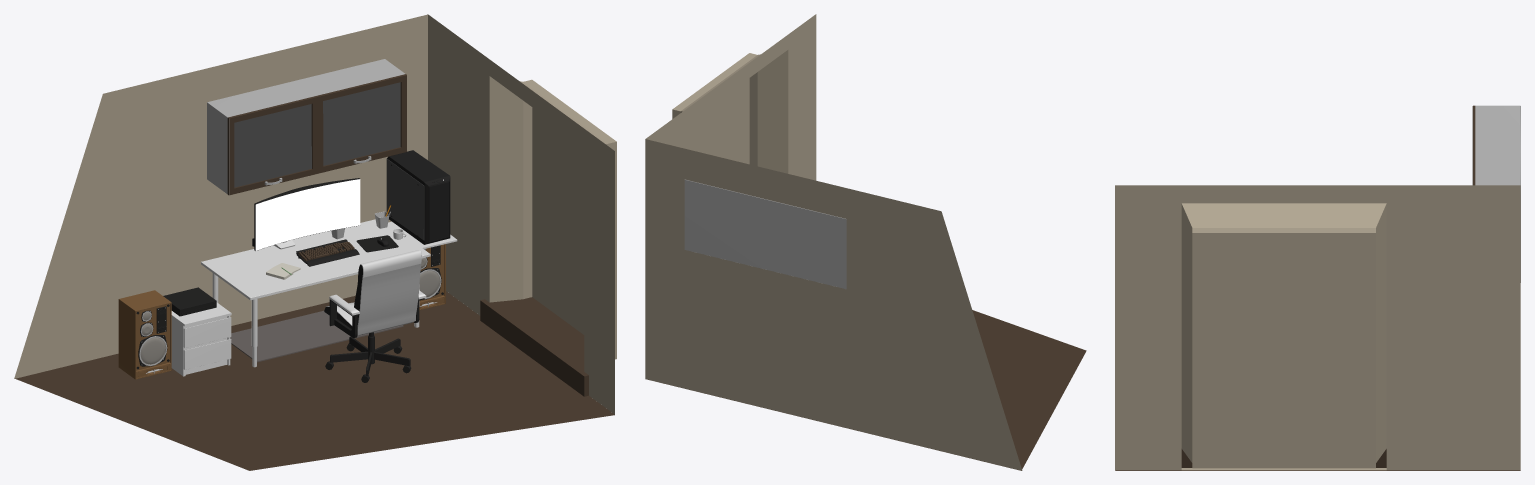
3 renders of one model, left to right at view 1: azimuth 30°, elevation 25°; view 2: azimuth 150°, elevation 25°; view 3: azimuth 270°, elevation 25°, orthographic. The views are drawn at different scales.
Visible parts, largest first — view 1: polySurface2, polySurface22, polySurface1, polySurface9, Table, Monitor, polySurface15, polySurface262, polySurface281, IKEA, Carpet, polySurface301 (+3 smaller); view 2: polySurface2, polySurface1, polySurface9, polySurface22; view 3: polySurface1, polySurface9.
Boxes of the visible parts, <box> form: polySurface2: <box>14,14,427,378</box>; polySurface22: <box>15,241,614,470</box>; polySurface1: <box>427,14,616,414</box>; polySurface9: <box>207,59,406,195</box>; Table: <box>201,219,430,367</box>; Monitor: <box>252,178,360,250</box>; polySurface15: <box>386,150,450,244</box>; polySurface262: <box>324,250,421,335</box>; polySurface281: <box>118,290,171,379</box>; IKEA: <box>171,302,231,376</box>; Carpet: <box>230,310,403,362</box>; polySurface301: <box>419,244,445,310</box>; polySurface2: <box>645,139,1022,470</box>; polySurface1: <box>646,14,816,180</box>; polySurface9: <box>684,179,846,289</box>; polySurface22: <box>645,310,1086,470</box>; polySurface1: <box>1115,185,1520,470</box>; polySurface9: <box>1472,105,1520,282</box>.
Size of the model in its own units: 93.78 by 52.46 by 67.46.
